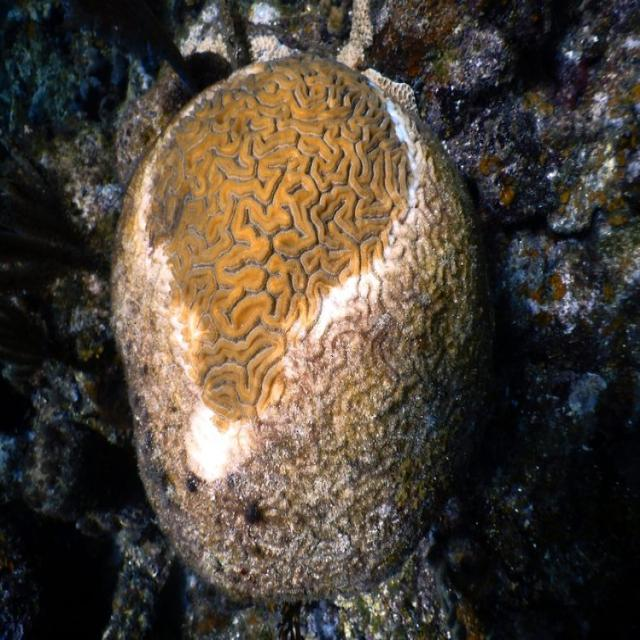Coral: (108, 53, 497, 606)
